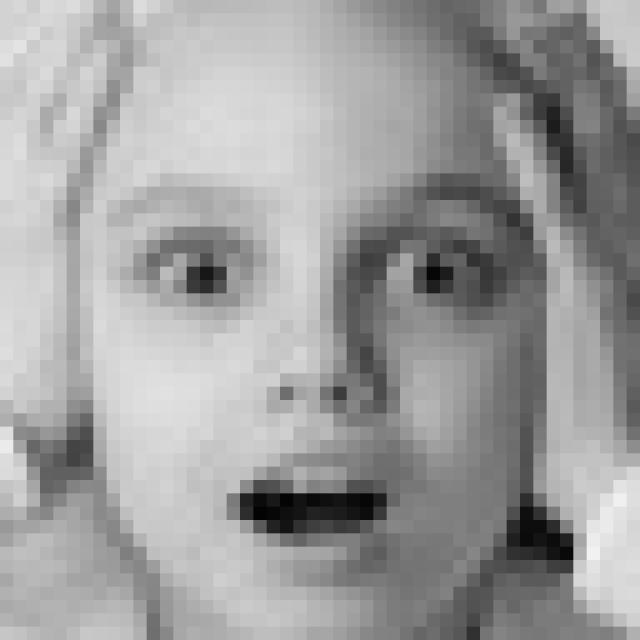surprise: (90, 165, 546, 578)
